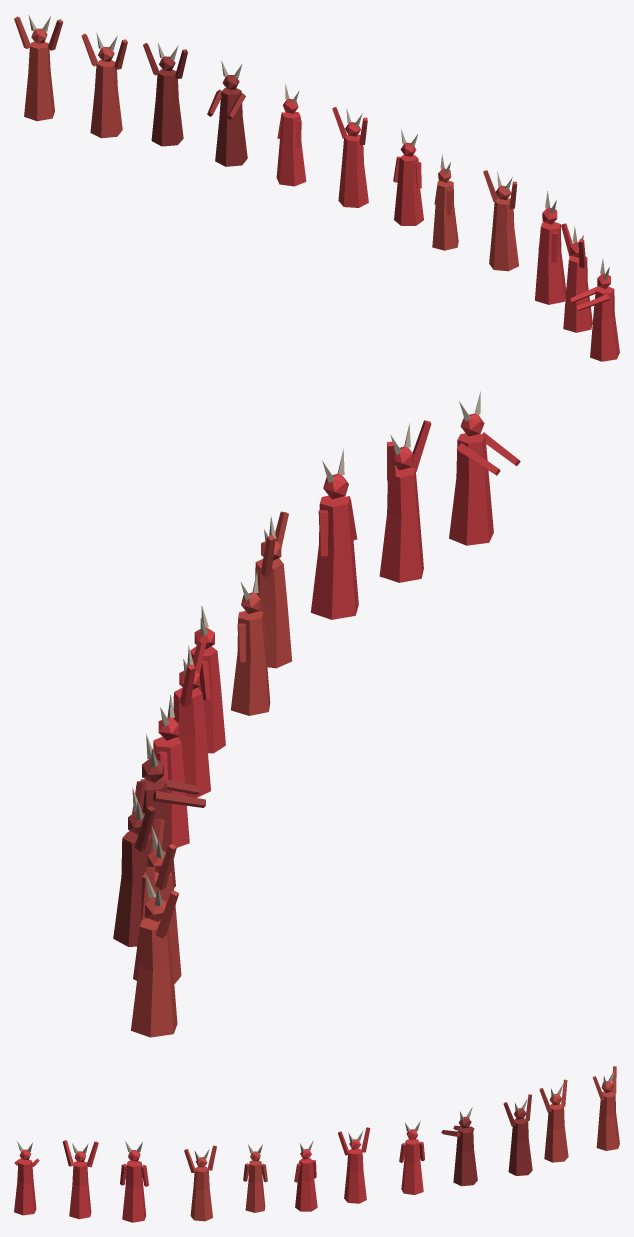
File: Stands_8_1_1_Ice.obj
The picture shows the model from 3 angles, top to bottom: view 1: azimuth 30°, elevation 25°; view 2: azimuth 150°, elevation 25°; view 3: azimuth 270°, elevation 25°; orthographic projection. The views are drawn at different scales.
Visible parts, largest first — view 1: Stands_8_1_1_Ice; view 2: Stands_8_1_1_Ice; view 3: Stands_8_1_1_Ice.
Part boxes in pixels (left/top/right/bottom): Stands_8_1_1_Ice: left=14, top=15, right=619, bottom=361; Stands_8_1_1_Ice: left=113, top=391, right=520, bottom=1037; Stands_8_1_1_Ice: left=14, top=1066, right=619, bottom=1222.
Bounding box in the file's own units: 10.48 × 4.47 × 31.76.
Materials: 1 (1 with a texture image).
